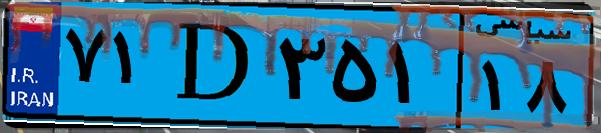1: (385, 28, 445, 110), (475, 38, 525, 113), (110, 28, 158, 98)
3: (270, 28, 330, 110)
5: (330, 28, 385, 110)
7: (57, 26, 110, 100)
8: (525, 38, 570, 115)
D: (158, 12, 270, 120)
